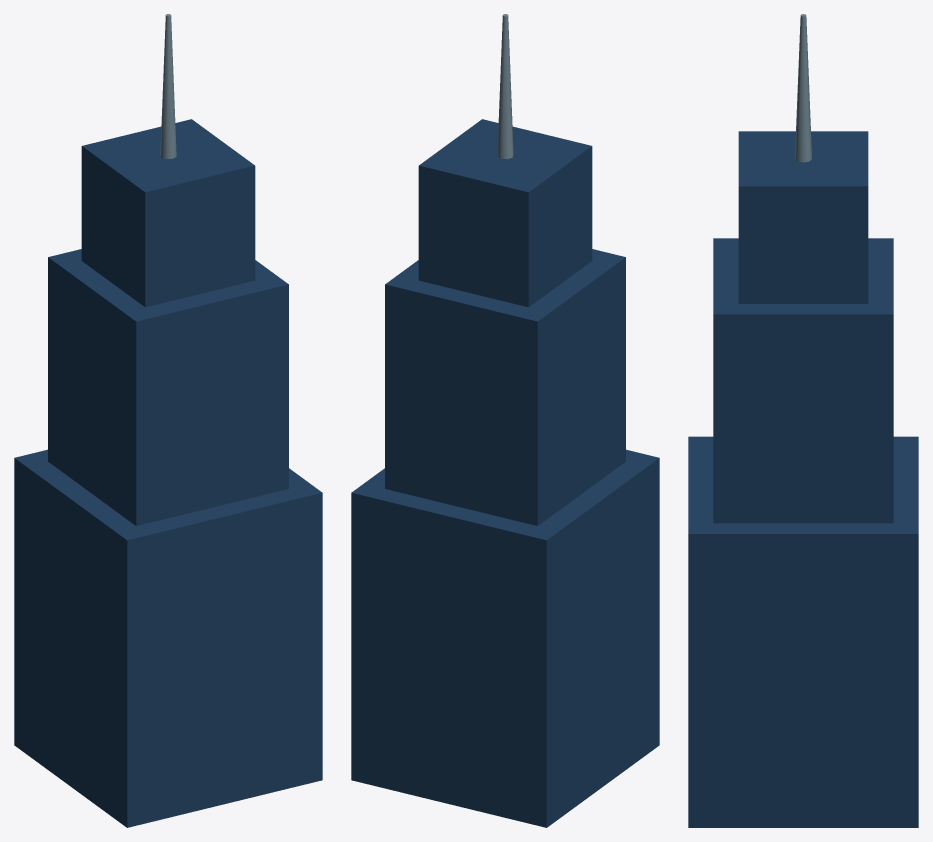
The model's file is office_tower_01.glb.
3 renders of one model, left to right at view 1: azimuth 30°, elevation 25°; view 2: azimuth 150°, elevation 25°; view 3: azimuth 270°, elevation 25°, orthographic. The views are drawn at different scales.
Size of the model in its own units: 32 by 117 by 32.
